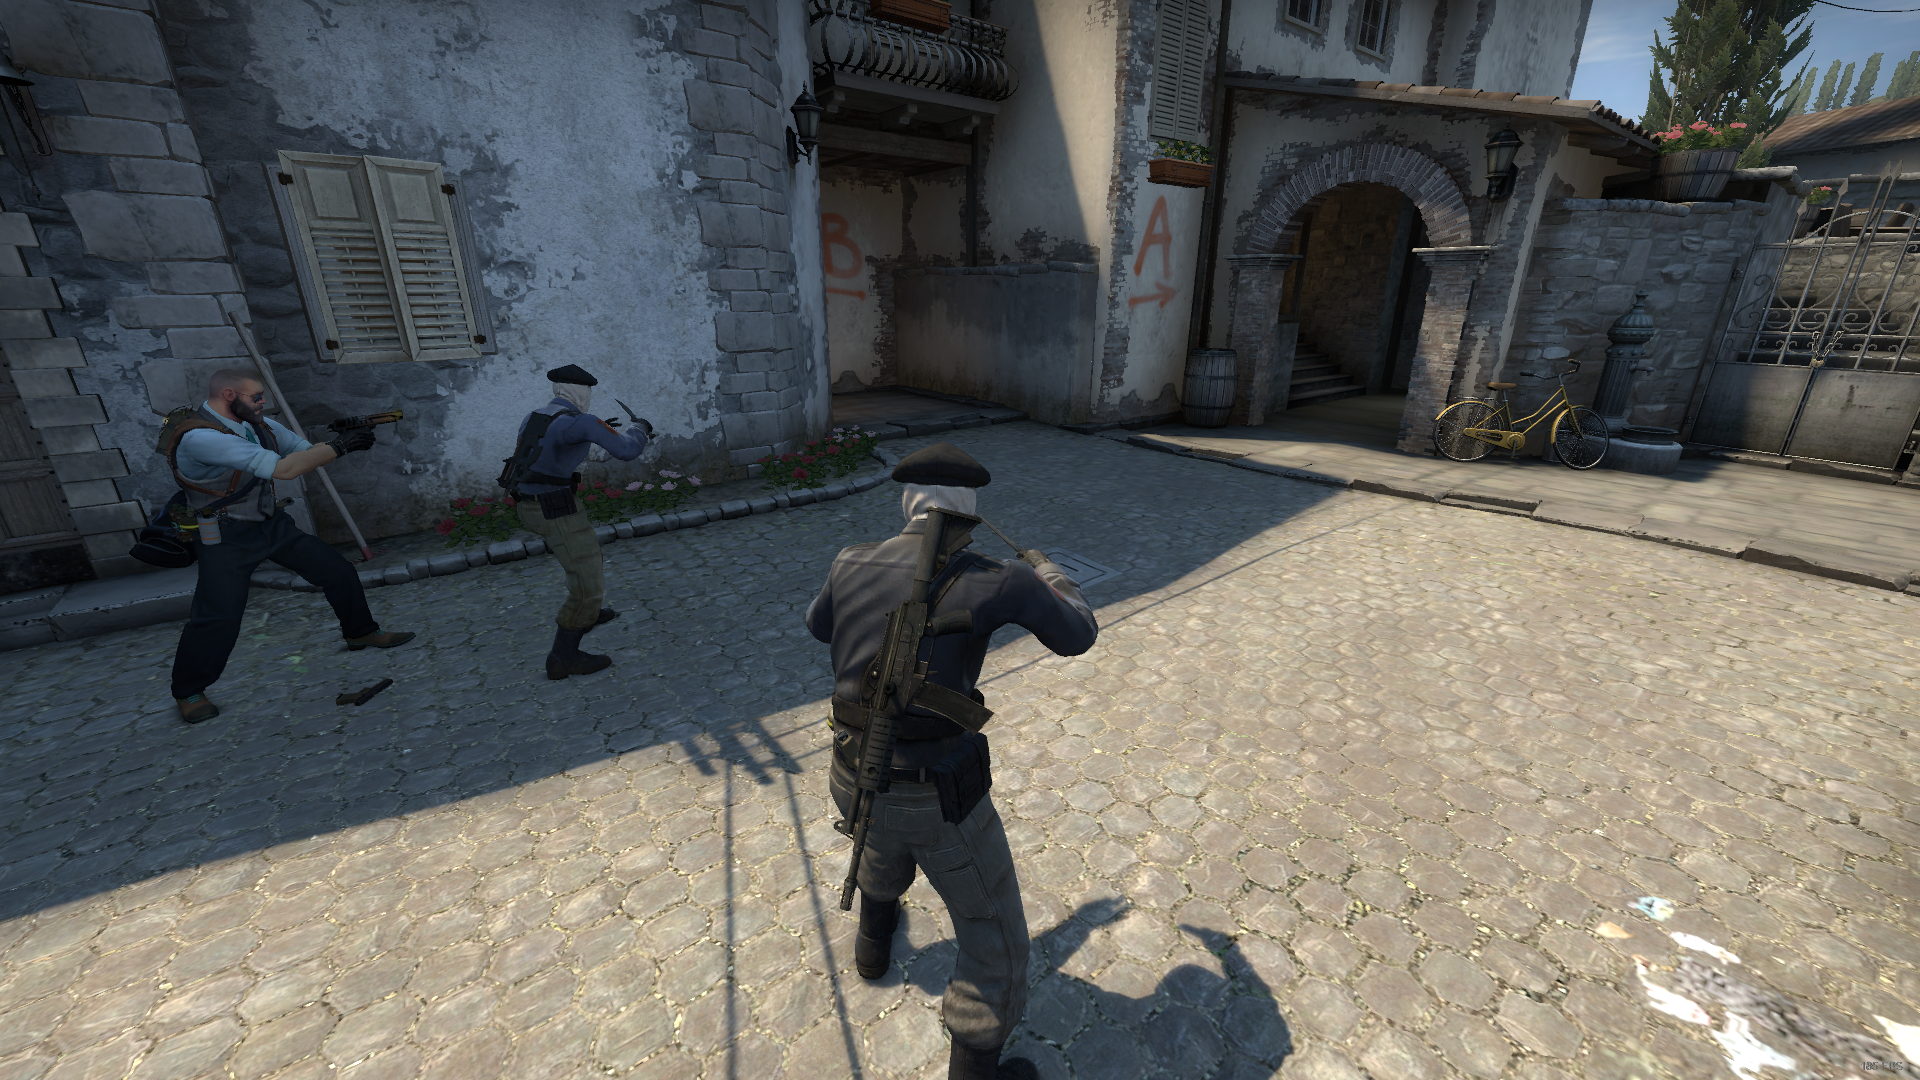t: (810, 448, 1098, 1080), (505, 363, 657, 679)
